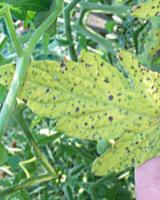Tomato Septoria leaf spot: (0, 8, 160, 196)
